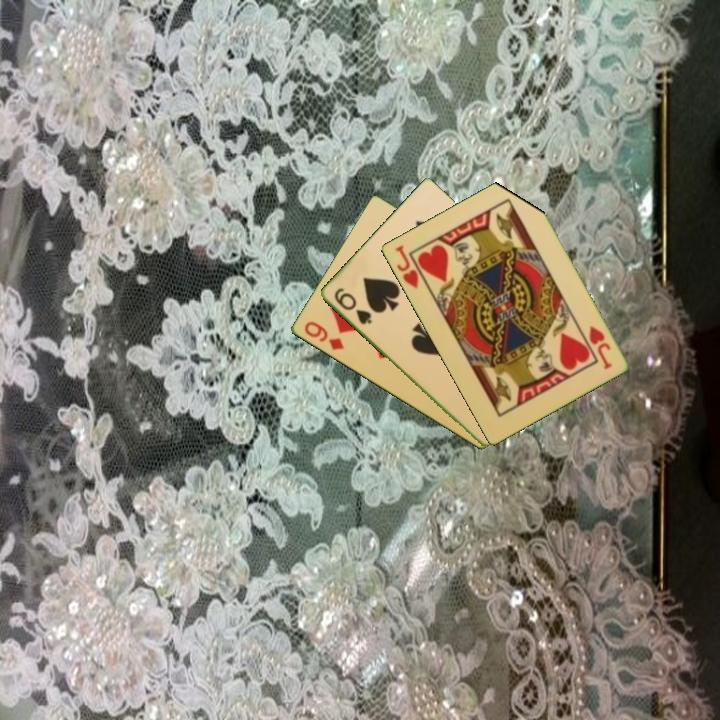6s: (330, 284, 374, 328)
9d: (300, 318, 347, 353)
Jh: (391, 241, 430, 292), (585, 322, 614, 372)
